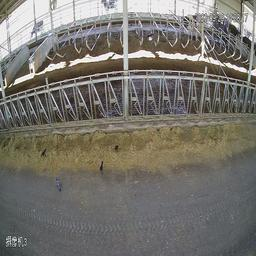cow: (181, 12, 201, 36), (214, 15, 227, 46), (229, 20, 241, 38)
